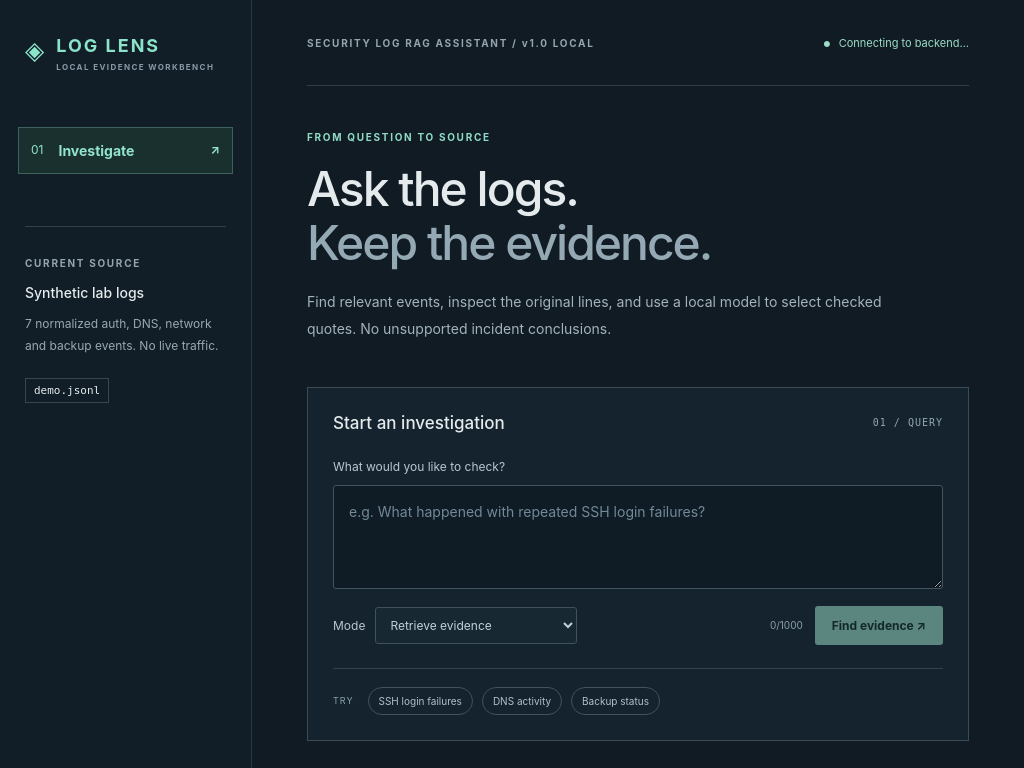
Scenario: evidence workbench › does not disguise an unavailable model as an answer
Select "Local RAG · checked quotes" in the dropdown labelled "Mode". click: (476,625)
box: left=375, top=607, right=577, bottom=644
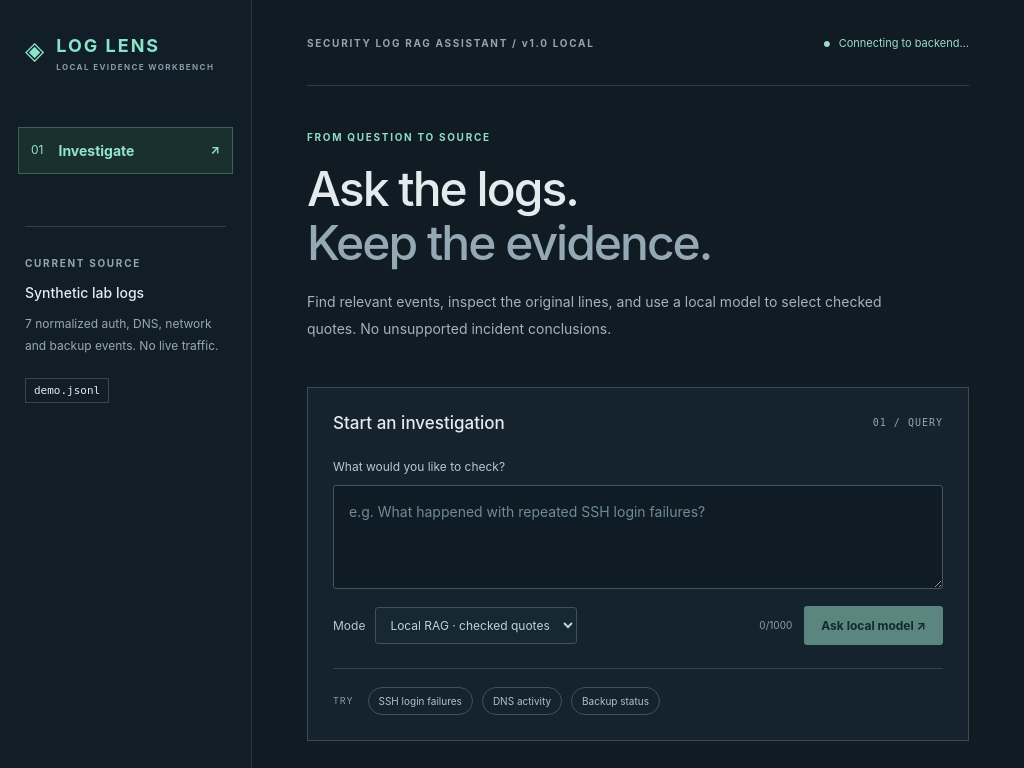
Type "SSH failures" into the text box labelled "What would you like to check?". click: (638,537)
box: left=333, top=485, right=943, bottom=589
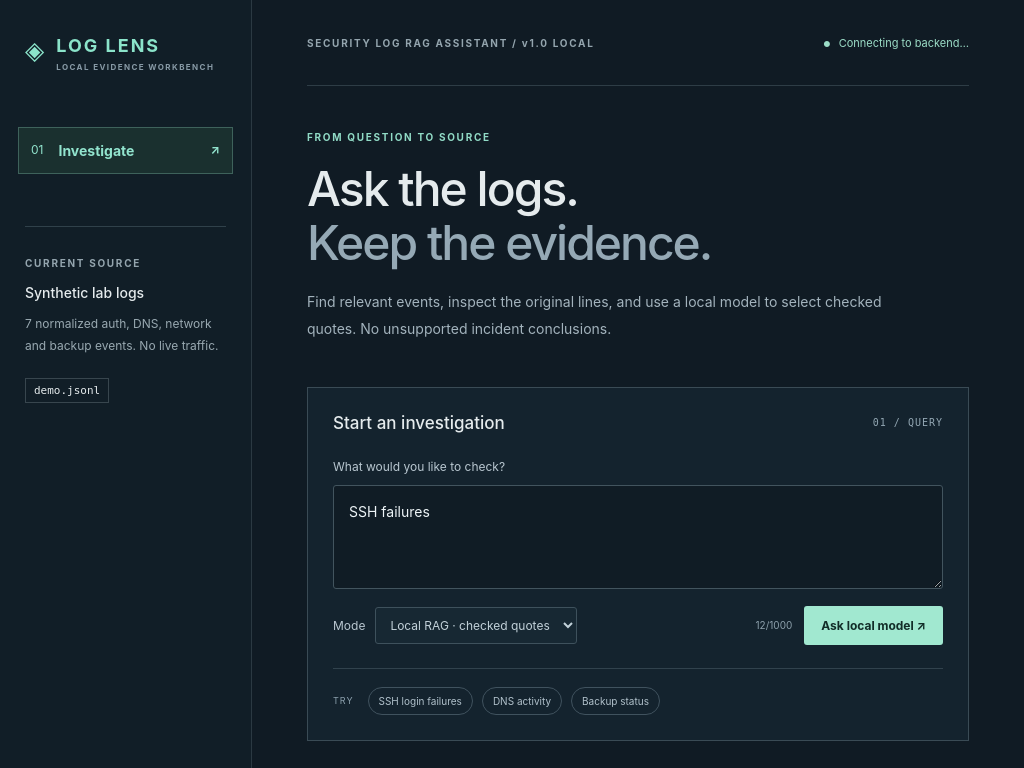
Click the button "Ask local model ↗". click: (874,625)
box: left=804, top=606, right=943, bottom=645
(page scrolled)
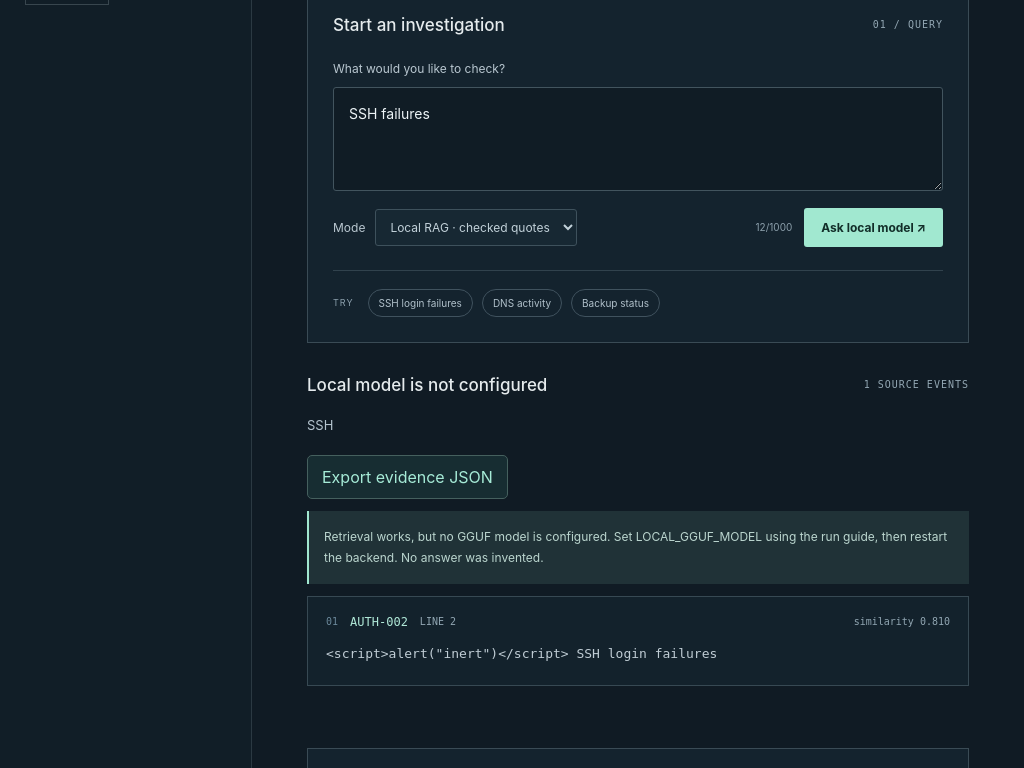
expect the heading "Local model is not configured" is shown: met, box left=307, top=375, right=547, bottom=395
